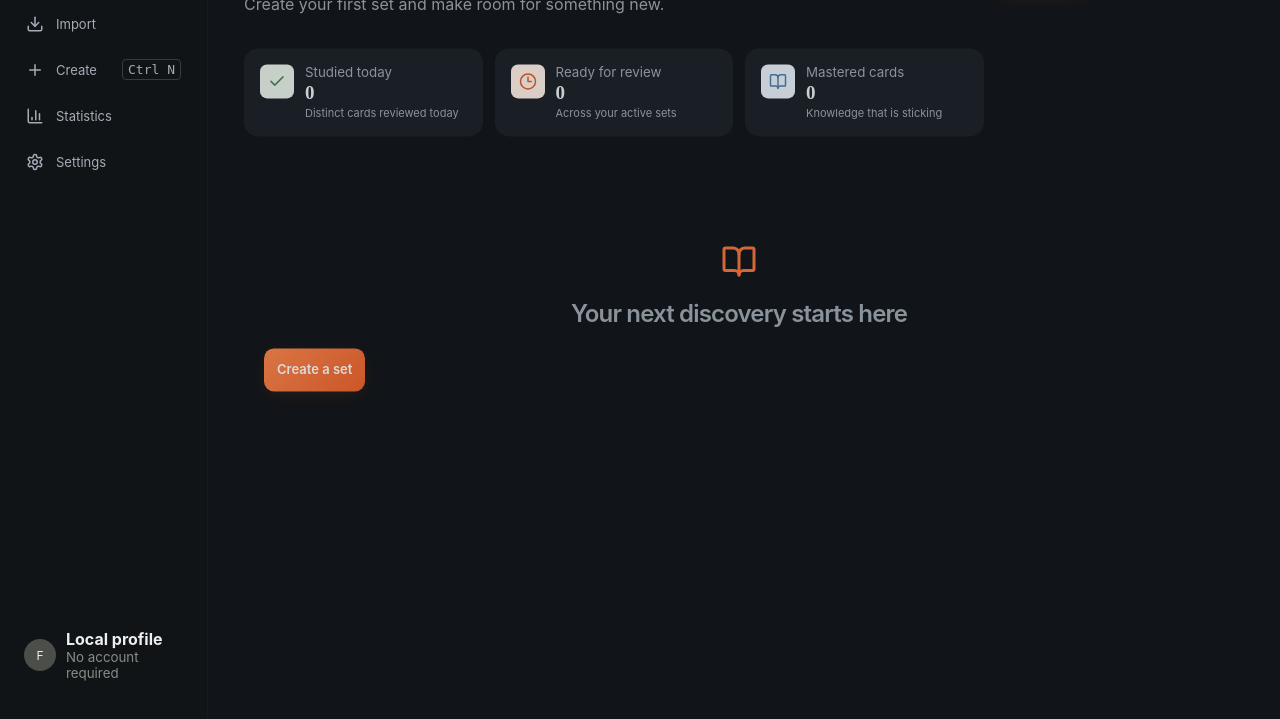
Library and study polish › wires editor swap and Undo and offers the supported multimedia Insert actions
Click the button "Create Ctrl N" at (104, 70), box [14,48,193,91]
(page scrolled)
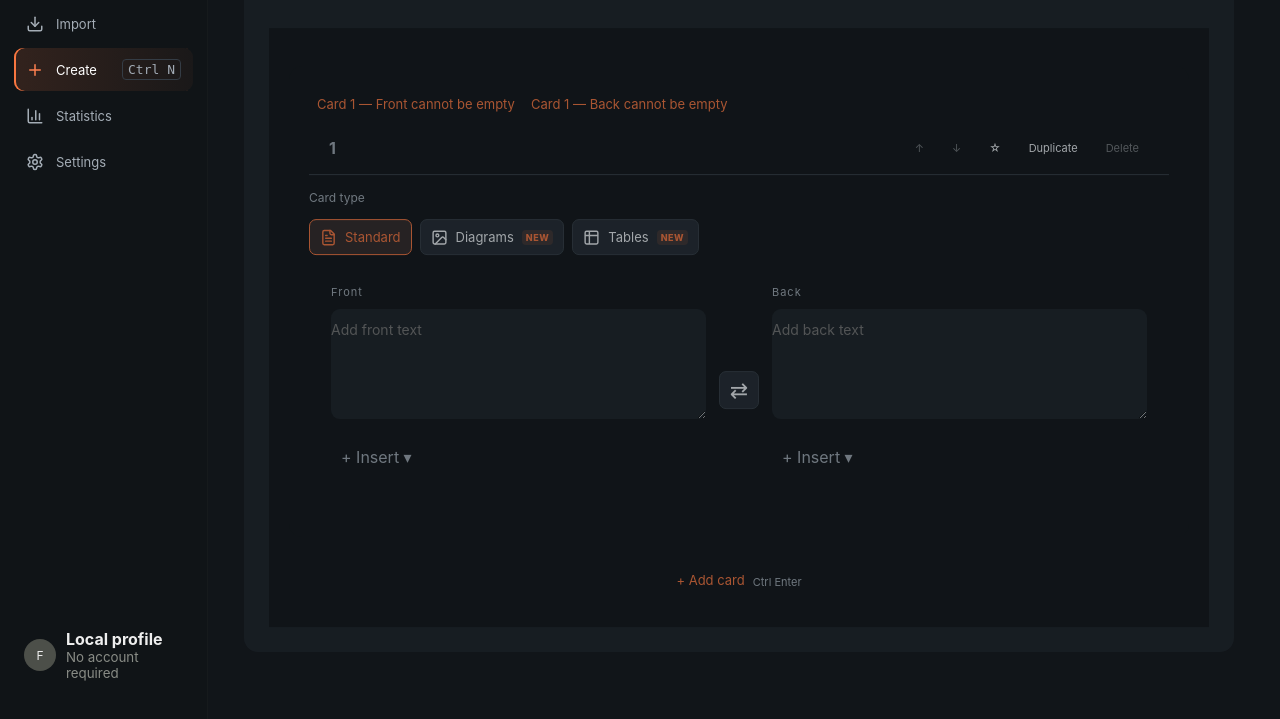
Type "Front value" into the text box with placeholder "Add front text" at (518, 362), box [331,307,706,417]
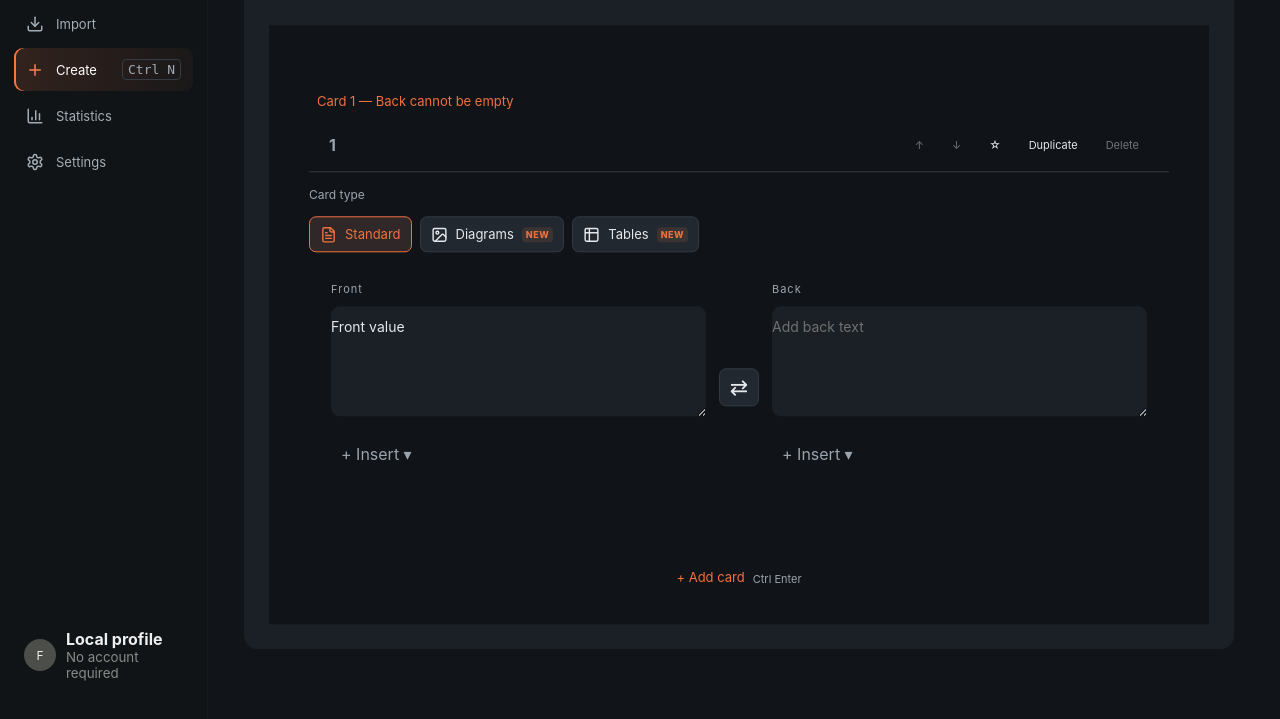
Type "Back value" into the text box with placeholder "Add back text" at (960, 361), box [772,306,1147,416]
(page scrolled)
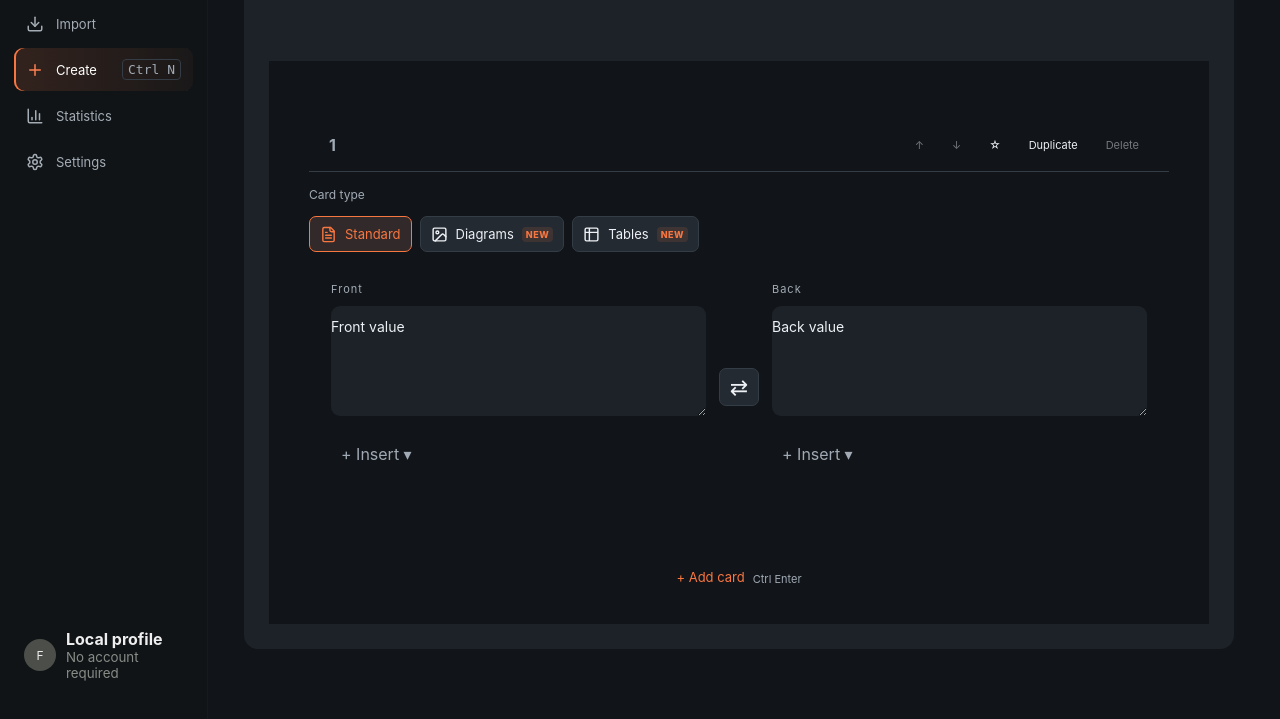
Click the button named "Swap front and back" at (739, 387), box [719,368,759,406]
(page scrolled)
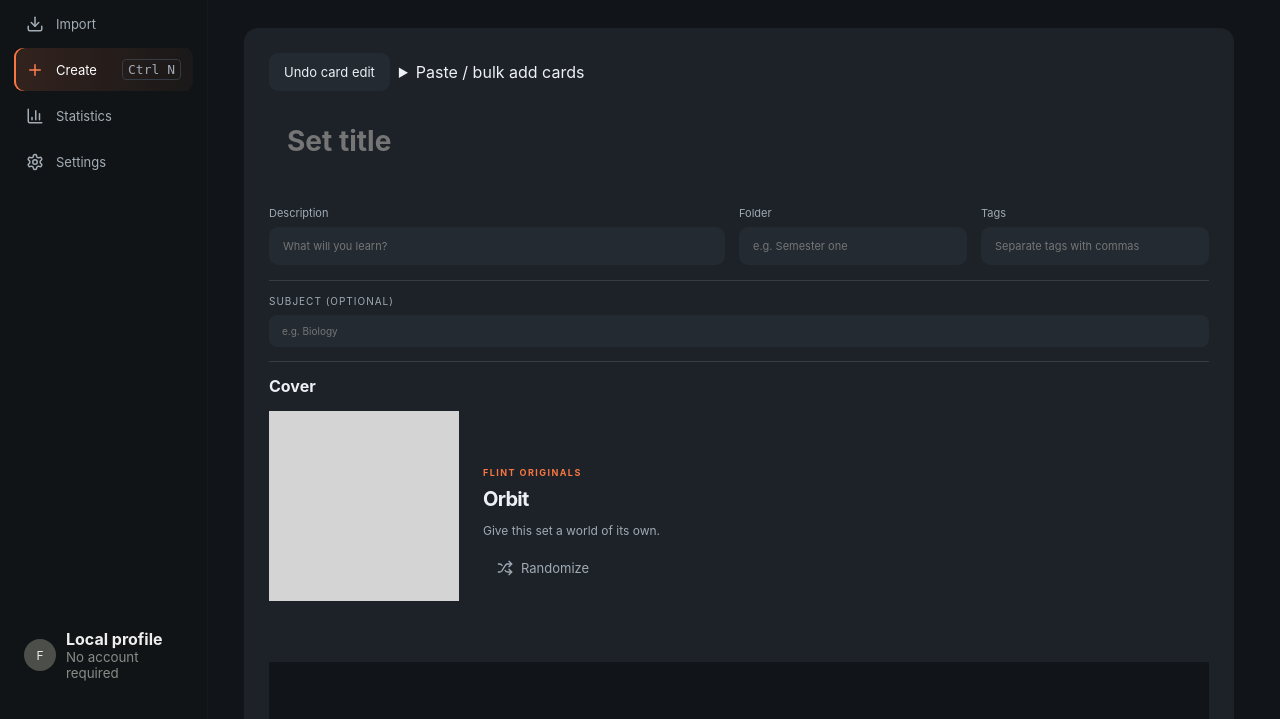
Click the button "Undo card edit" at (329, 72), box [269,53,390,91]
(page scrolled)
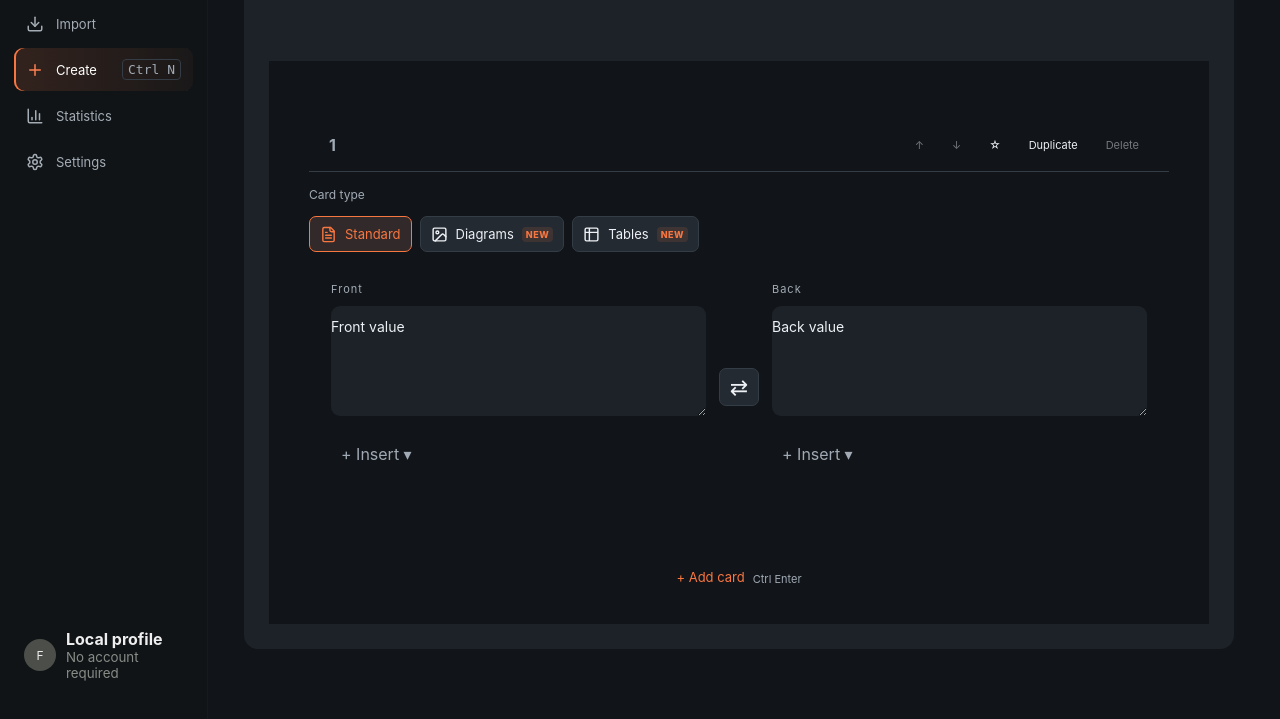
Click the heading "+ Insert ▾" below "Front" at (376, 454), box [341,444,412,464]
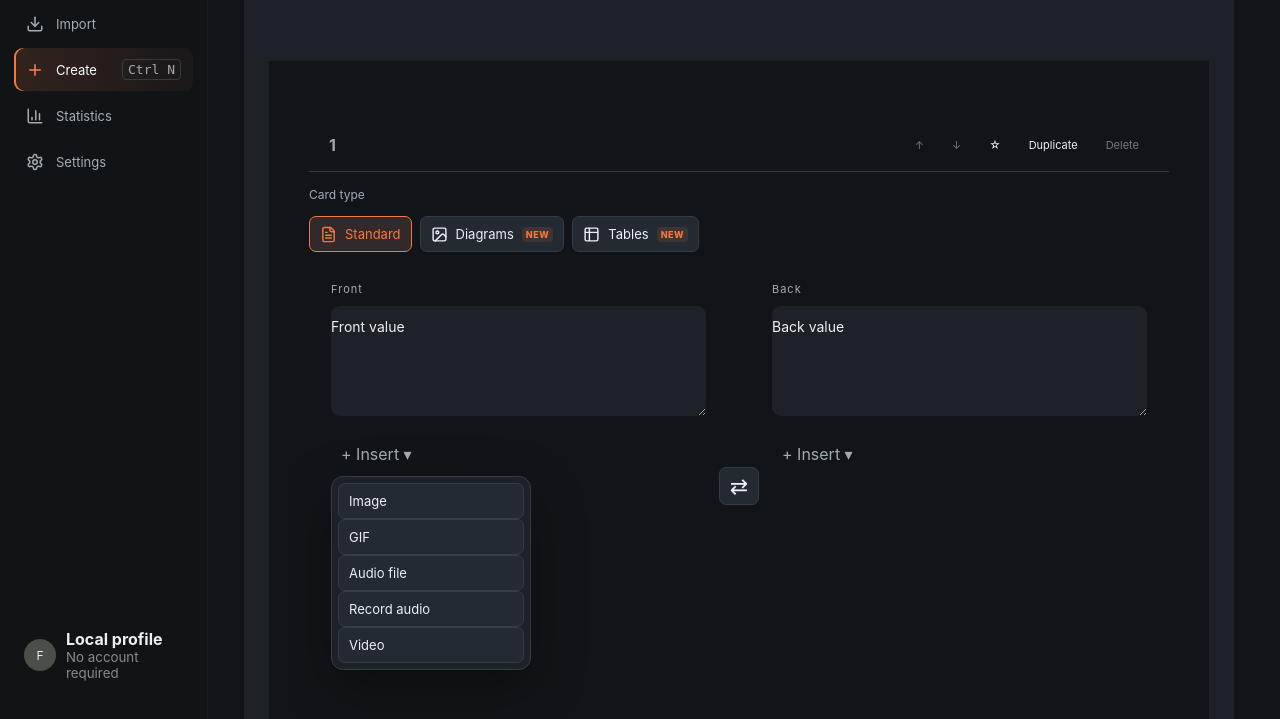
Result: the buttons read "Image", "GIF", "Audio file", "Record audio", "Video", in this order at [338,483,524,519]; [338,519,524,555]; [338,555,524,591]; [338,591,524,627]; [338,627,524,663]
